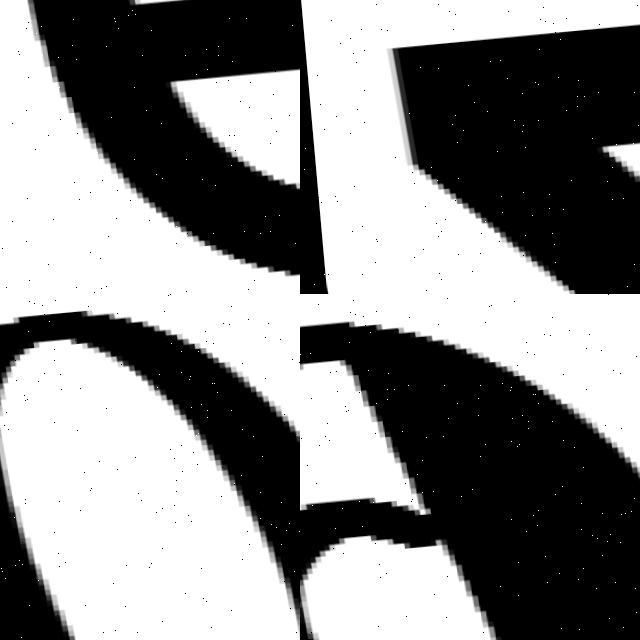9: (300, 294, 640, 640)
E: (24, 0, 300, 278)
O: (0, 307, 300, 640)
Z: (375, 3, 640, 294)
